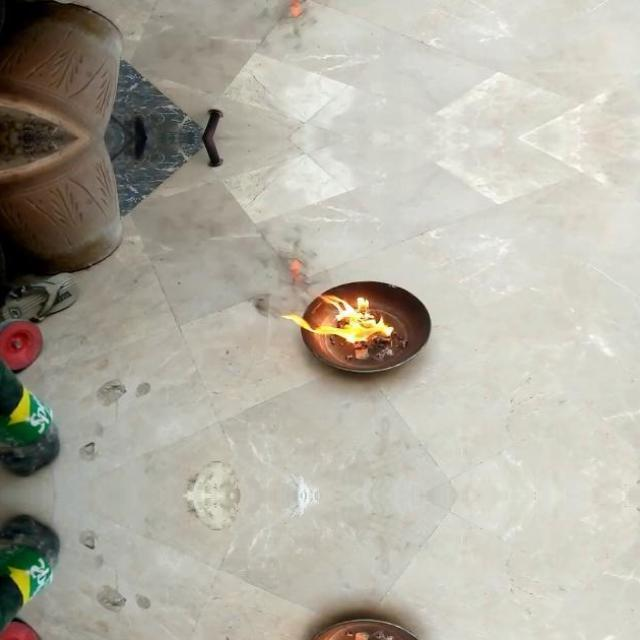smoke: (286, 278, 395, 349)
